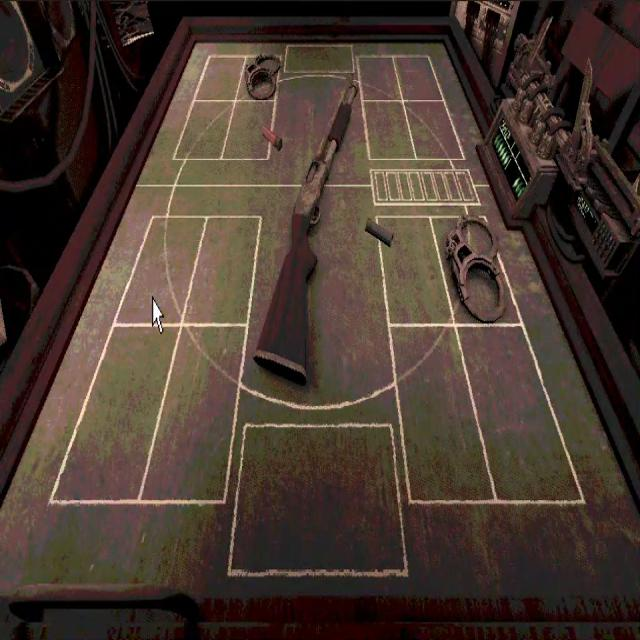ally: (377, 214, 459, 329)
emptyspace: (51, 326, 181, 503), (460, 325, 584, 502), (138, 321, 246, 503), (391, 323, 497, 501), (113, 218, 207, 321), (378, 217, 455, 330), (182, 217, 261, 325), (174, 100, 236, 159), (403, 101, 464, 159), (221, 100, 274, 159), (362, 101, 415, 159), (393, 56, 444, 102), (195, 55, 246, 101), (357, 56, 403, 100)
enemyspace: (136, 34, 502, 188)
gun: (253, 73, 358, 386)
handcuff: (445, 216, 508, 321), (245, 54, 281, 99)
